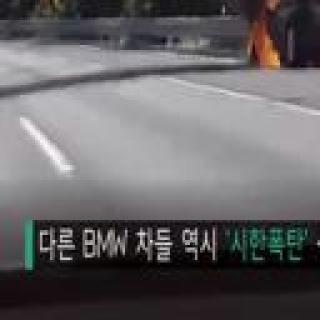fire: (250, 19, 285, 66)
